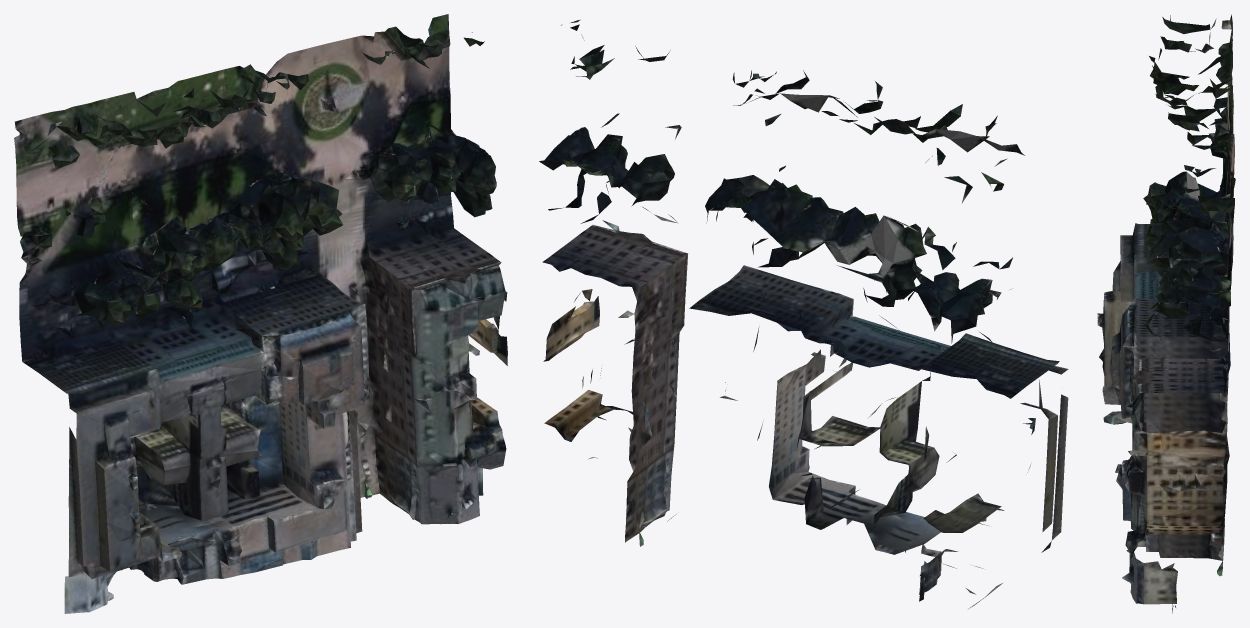
The model's file is Tile_+035_+019_L17_0002.glb.
3 renders of one model, left to right at view 1: azimuth 30°, elevation 25°; view 2: azimuth 150°, elevation 25°; view 3: azimuth 270°, elevation 25°, orthographic. The views are drawn at different scales.
Bounding box in the file's own units: 126 × 126 × 38.57.
1 material, 1 textured.
